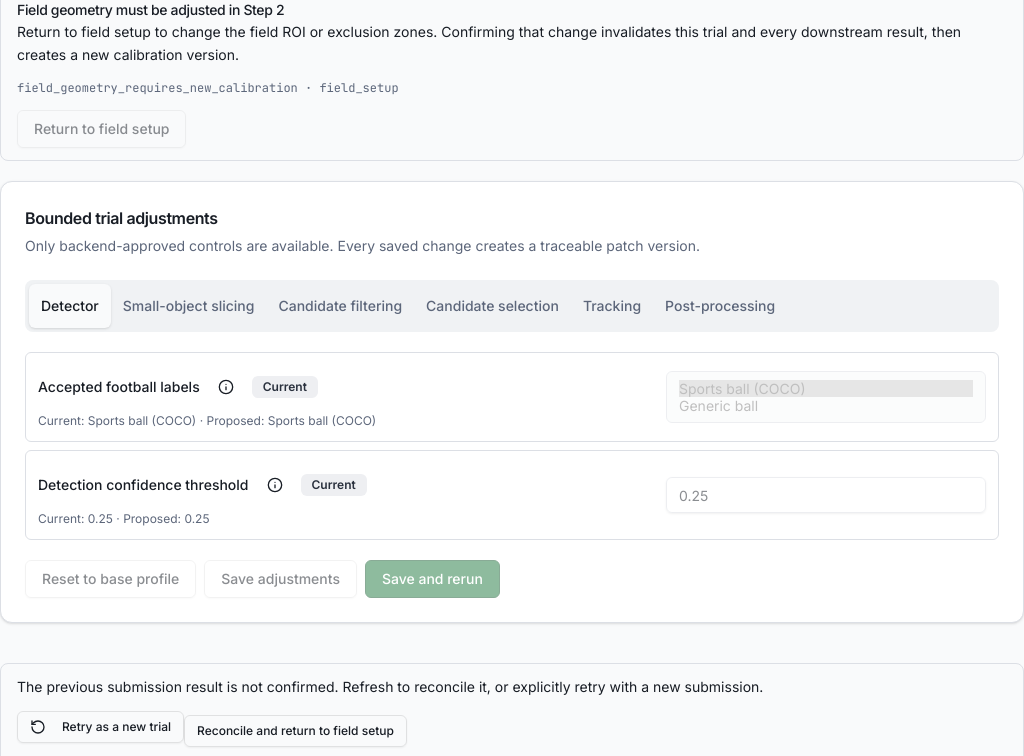
Test: ProductionTrialStep mutation safety › keeps an uncertain zero-attempt pending result when only a nonmatching production trial exists
(page scrolled)
Click the button "Retry as a new trial" at (101, 727), box [17,711,184,743]
(page scrolled)
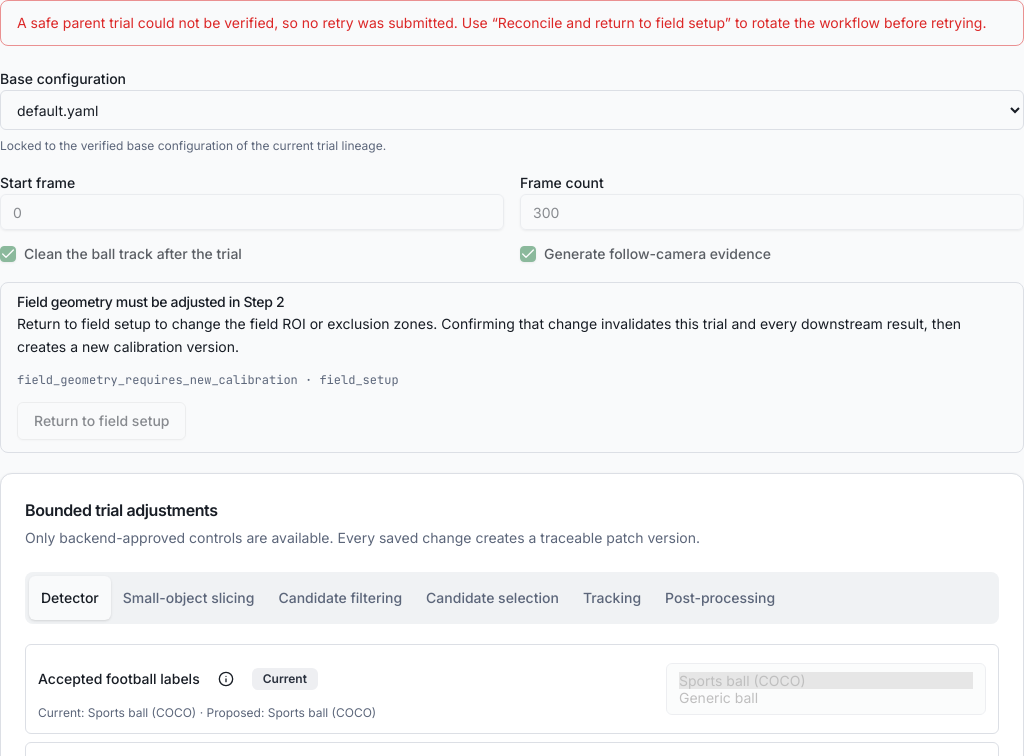
Now the text "A safe parent trial could not be verified, so no retry was submitted. Use “Reconcile and return to field setup” to rotat" is shown, box [17,14,986,31]
